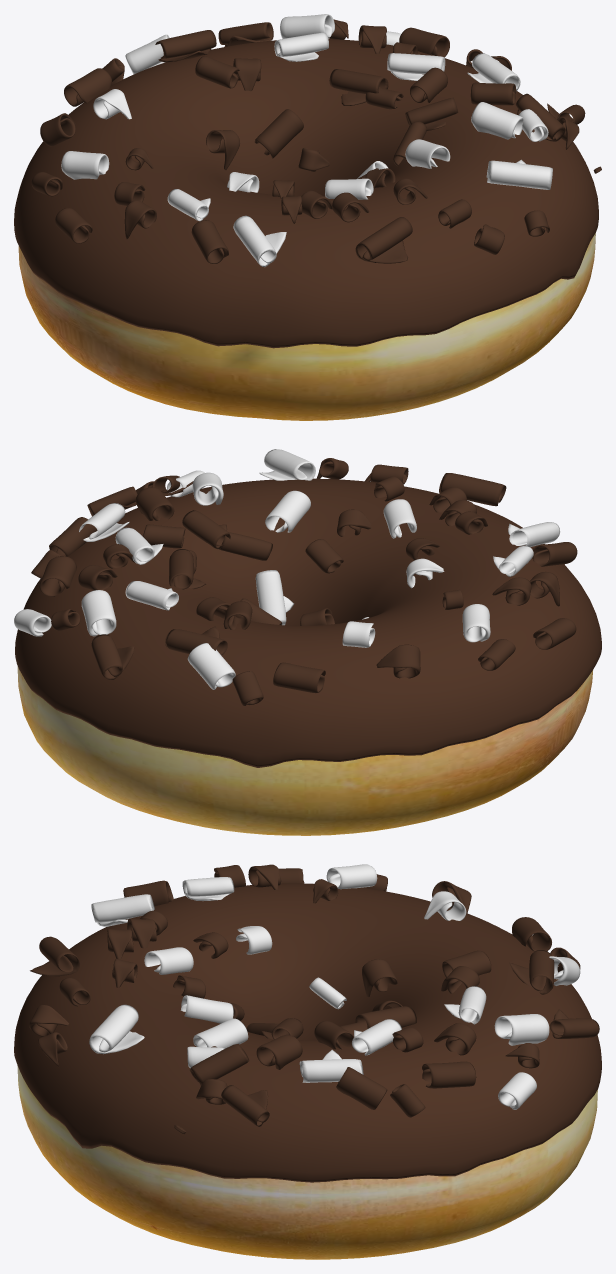
Rendered from dark two in one curls.glb.
3 views of the same model, one above another, from view 1: azimuth 30°, elevation 25°; view 2: azimuth 150°, elevation 25°; view 3: azimuth 270°, elevation 25° (orthographic). The views are drawn at different scales.
Visible parts, largest first — view 1: dark, two in one curls, Torus; view 2: dark, two in one curls, Torus; view 3: dark, two in one curls, Torus.
Part boxes in pixels (left/top/right/bottom): dark: left=14, top=39, right=598, bottom=348; two in one curls: left=31, top=14, right=601, bottom=267; Torus: left=18, top=233, right=595, bottom=420; dark: left=15, top=478, right=601, bottom=767; two in one curls: left=14, top=449, right=577, bottom=705; Torus: left=17, top=666, right=592, bottom=835; dark: left=14, top=883, right=601, bottom=1182; two in one curls: left=29, top=864, right=599, bottom=1134; Torus: left=17, top=1065, right=597, bottom=1259.
Size of the model in its own units: 0.1988 by 0.0804 by 0.1971.
Materials: 4 (1 with a texture image).
